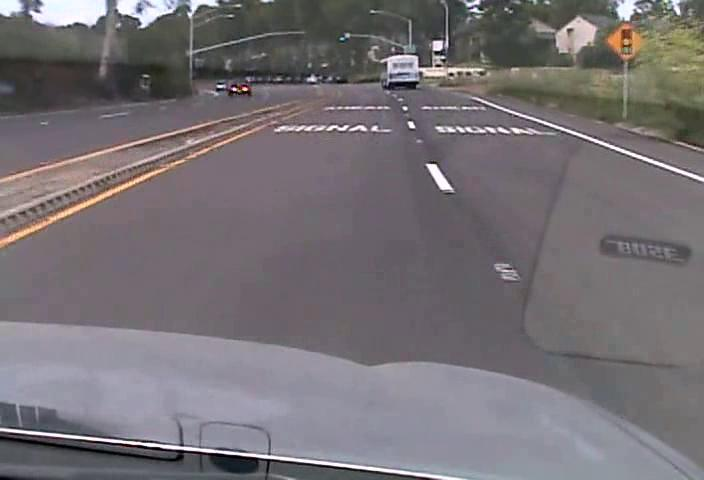signalAhead: (605, 21, 646, 61)
